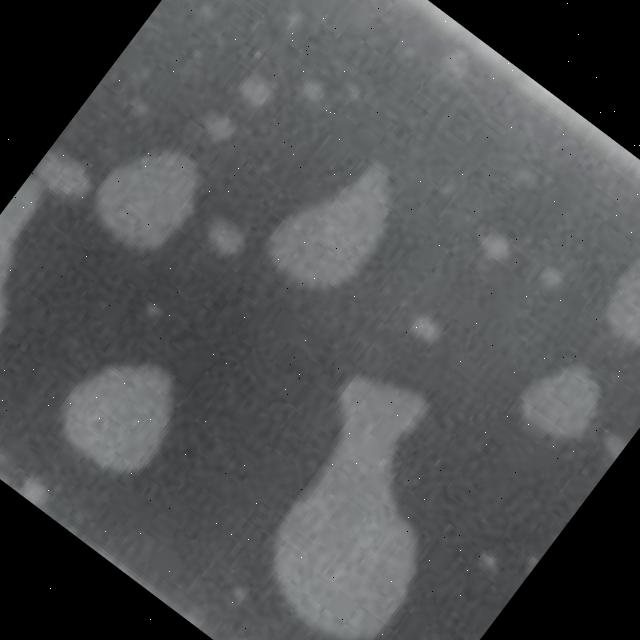chip: (0, 0, 640, 640)
void: (272, 376, 429, 640), (265, 159, 393, 291), (0, 153, 91, 320), (61, 361, 173, 472), (90, 153, 197, 250), (520, 362, 603, 436), (604, 249, 640, 346), (205, 212, 245, 257), (237, 76, 271, 109), (475, 230, 510, 261), (19, 473, 48, 506), (410, 317, 442, 345), (545, 269, 562, 284)
